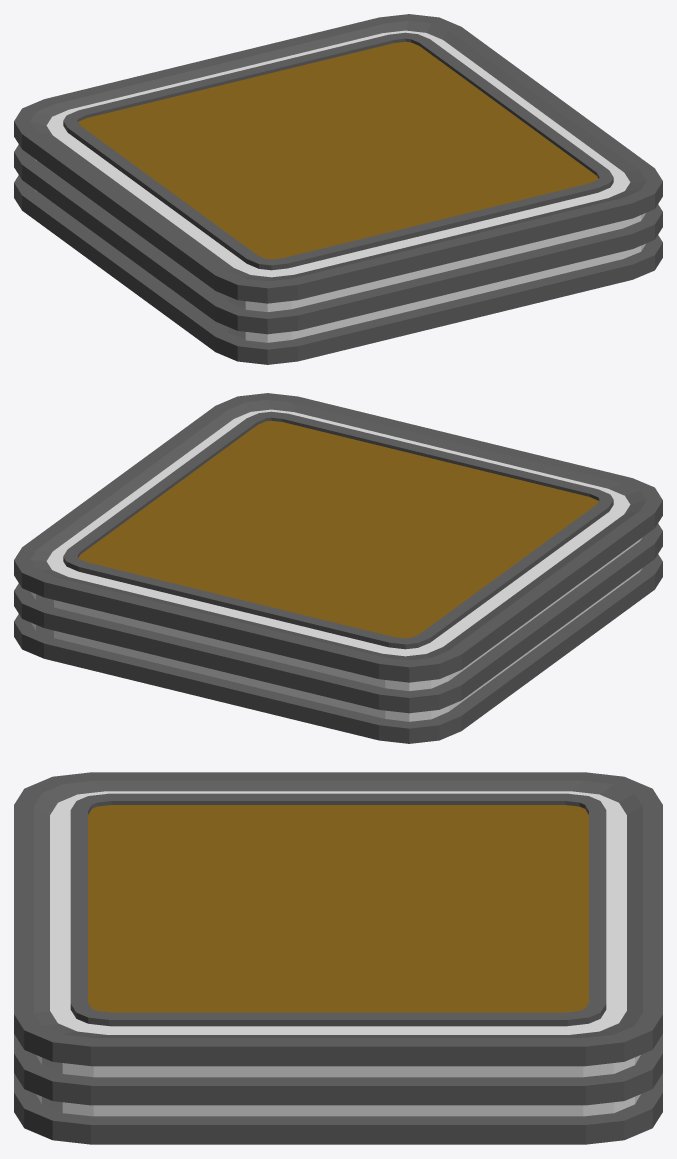
Rendered from squarePlatform.fbx.
The picture shows the model from 3 angles, top to bottom: view 1: azimuth 30°, elevation 25°; view 2: azimuth 150°, elevation 25°; view 3: azimuth 270°, elevation 25°; orthographic projection. The views are drawn at different scales.
Visible parts, largest first — view 1: squarePlatform; view 2: squarePlatform; view 3: squarePlatform.
Part boxes in pixels (left/top/right/bottom): squarePlatform: left=14, top=14, right=662, bottom=364; squarePlatform: left=14, top=393, right=662, bottom=743; squarePlatform: left=14, top=772, right=662, bottom=1144.
Size of the model in its own units: 300 by 51.37 by 300.
